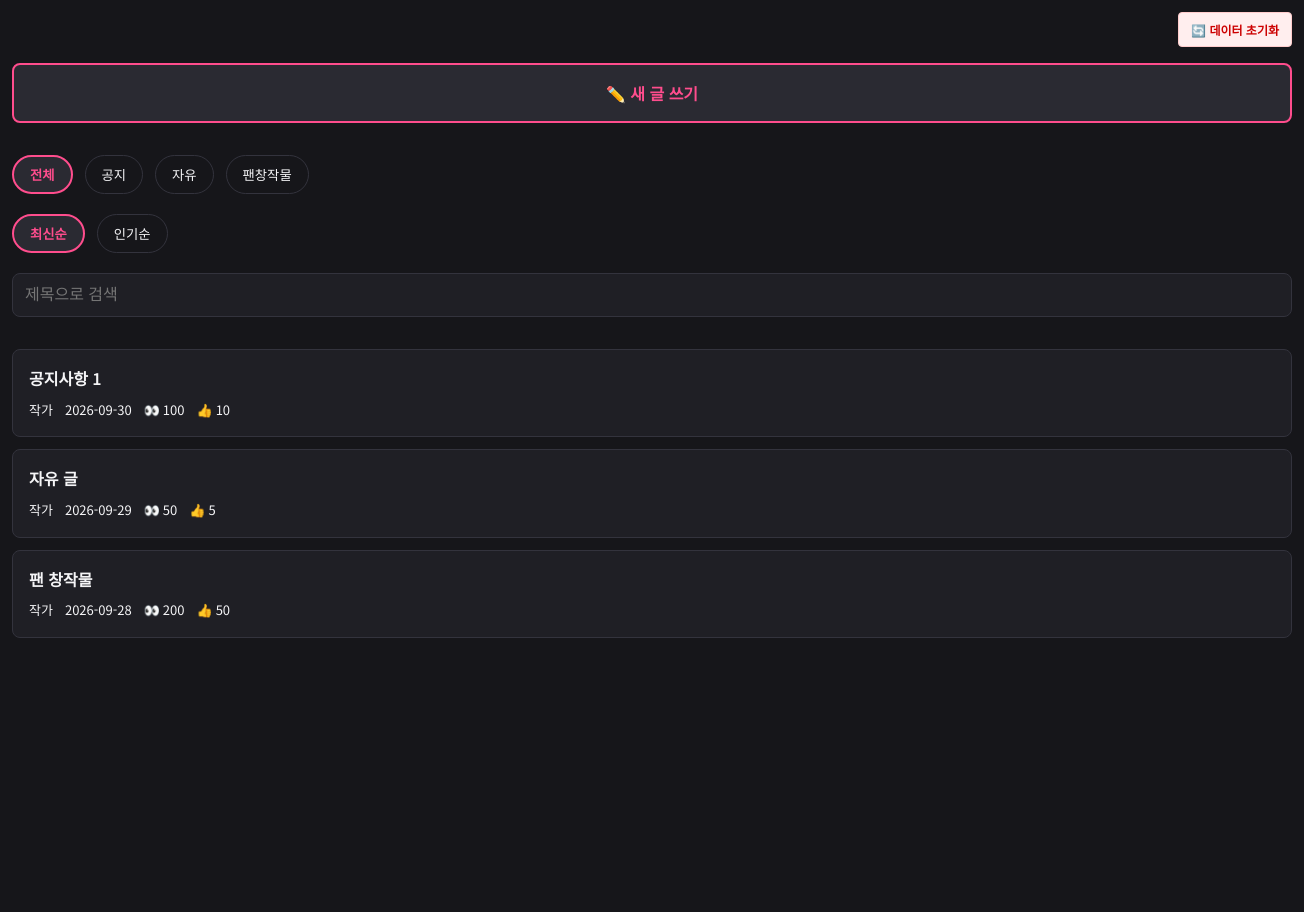
Test: PostExplorer › filters by search query
Type "팬" into the field with placeholder "제목으로 검색" at (652, 295), box top-left (12, 273), bottom-right (1292, 317)
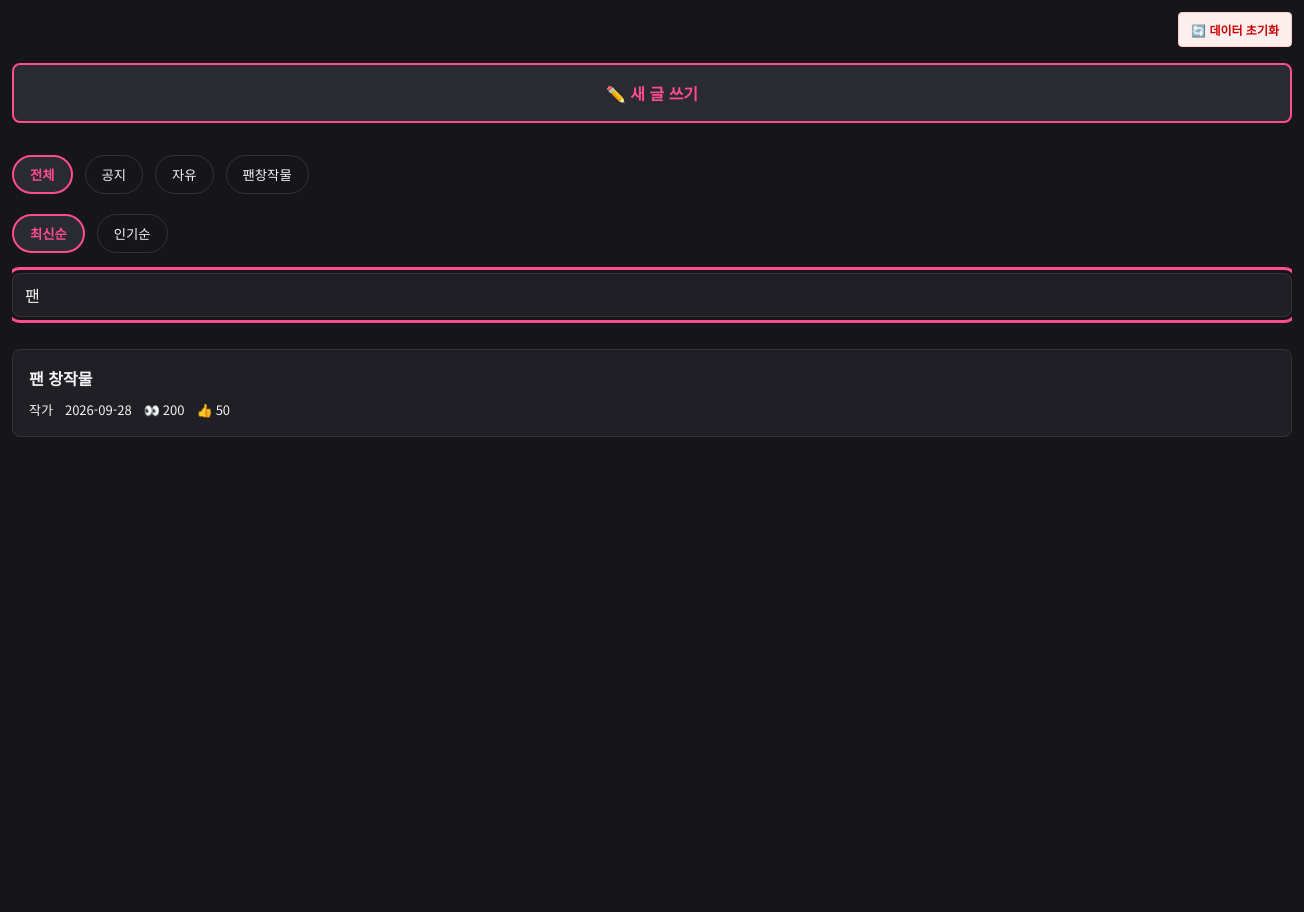
Expected: the text "팬 창작물" is shown, top-left (29, 366), bottom-right (92, 390)
Expected: the text "공지사항 1" is gone
